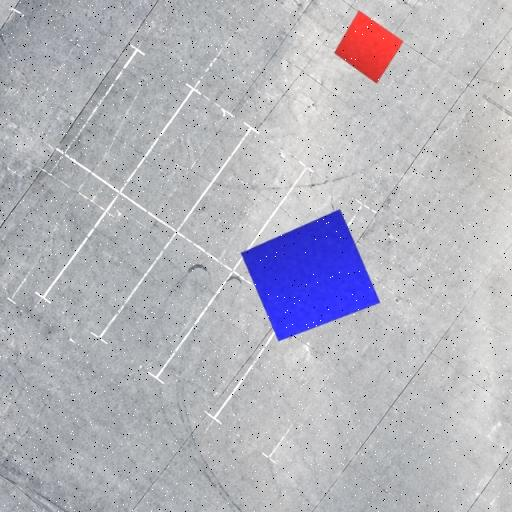BLUE_SQUARE: (240, 208, 382, 342)
RED_SQUARE: (334, 10, 404, 84)
